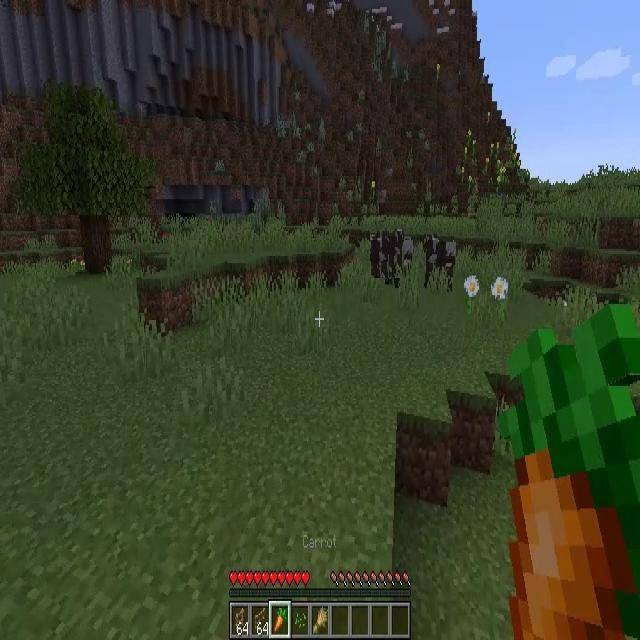cow: (423, 235, 457, 288), (370, 227, 404, 278), (386, 238, 414, 284)
flower: (492, 276, 508, 321), (465, 274, 478, 314)
